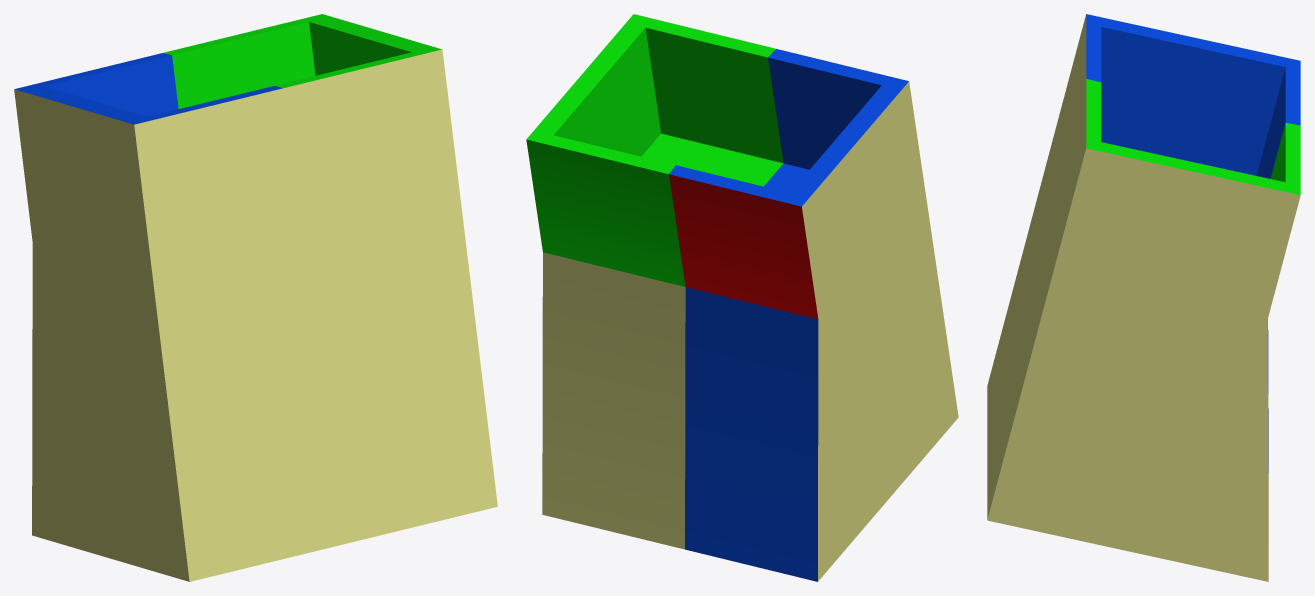
File: mavi_yesil_kutu.fbx
3 views of the same model, side by side, from view 1: azimuth 30°, elevation 25°; view 2: azimuth 150°, elevation 25°; view 3: azimuth 270°, elevation 25° (orthographic). The views are drawn at different scales.
Visible parts, largest first — view 1: pCube13; view 2: pCube13; view 3: pCube13.
Part boxes in pixels (<box>): pCube13: <box>14,14,497,581</box>; pCube13: <box>526,14,958,581</box>; pCube13: <box>987,14,1300,581</box>.
Bounding box in the file's own units: 4.33 × 6.51 × 4.27.
